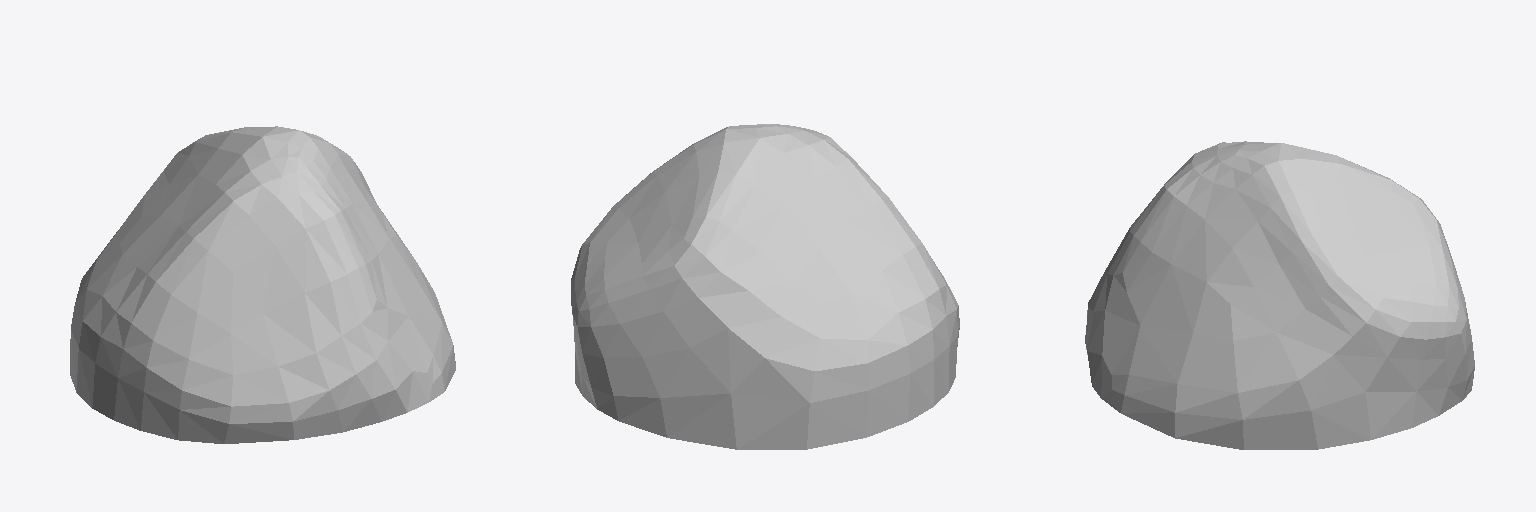
Rendered from stone30.obj.
The picture shows the model from 3 angles: view 1: azimuth 30°, elevation 25°; view 2: azimuth 150°, elevation 25°; view 3: azimuth 270°, elevation 25°; orthographic projection.
Visible parts, largest first — view 1: stone3_Group1.002; view 2: stone3_Group1.002; view 3: stone3_Group1.002.
Part boxes in pixels (x1,y1,x2,y2): stone3_Group1.002: (70, 126, 455, 443); stone3_Group1.002: (571, 124, 959, 449); stone3_Group1.002: (1085, 141, 1474, 449).
Bounding box in the file's own units: 2.71 × 1.84 × 2.78.